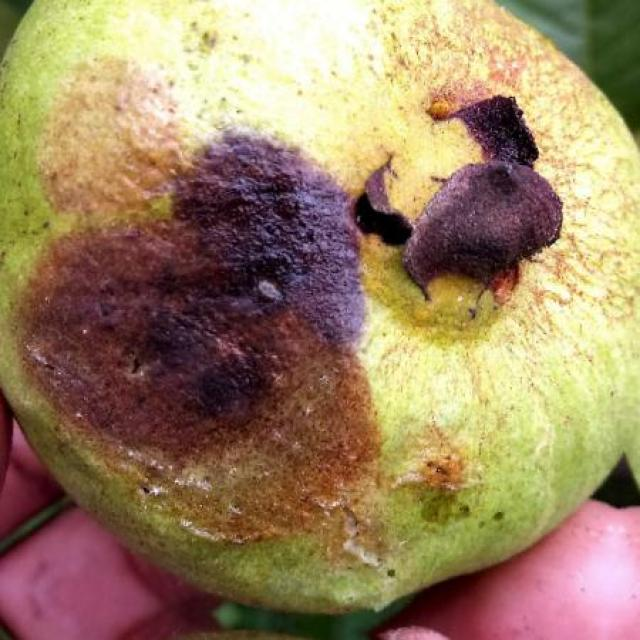Styler and Root: (0, 0, 640, 614)
